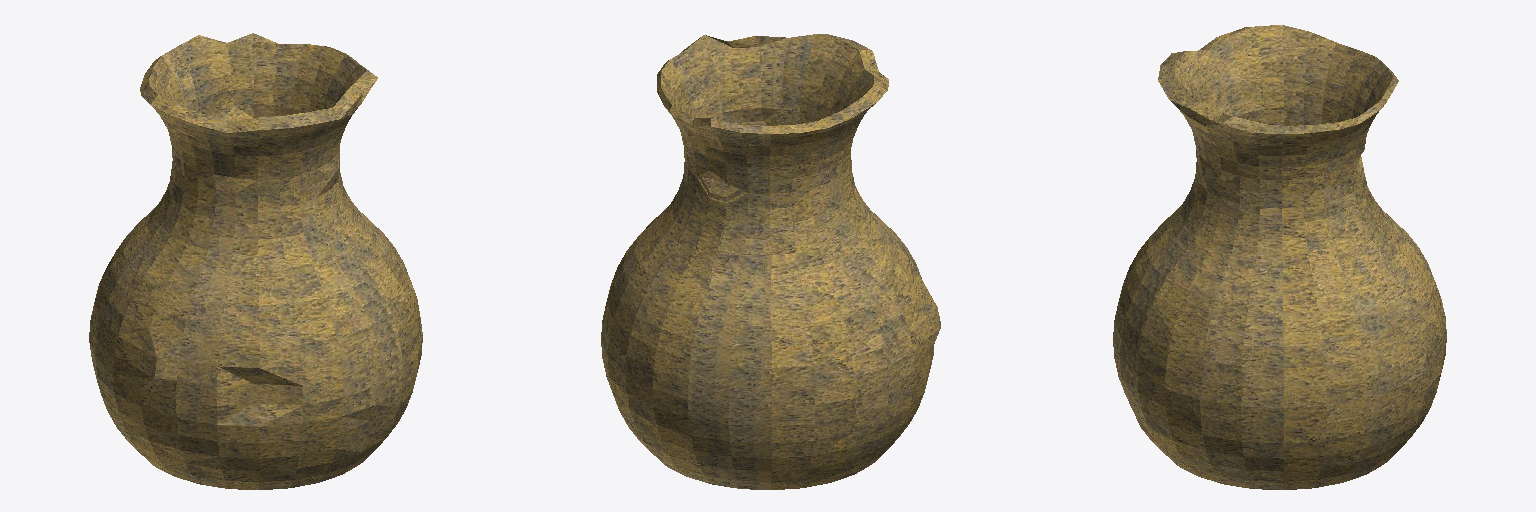
3 renders of one model, left to right at view 1: azimuth 30°, elevation 25°; view 2: azimuth 150°, elevation 25°; view 3: azimuth 270°, elevation 25°, orthographic.
Parts seen in each view (by area): view 1: mesh1_mesh1-geometry; view 2: mesh1_mesh1-geometry; view 3: mesh1_mesh1-geometry.
Boxes of the visible parts, <box> form: mesh1_mesh1-geometry: <box>89,33,422,489</box>; mesh1_mesh1-geometry: <box>601,34,940,489</box>; mesh1_mesh1-geometry: <box>1113,25,1446,489</box>.
Bounding box in the file's own units: 0.5361 × 0.652 × 0.5361.
Materials: 1 (1 with a texture image).